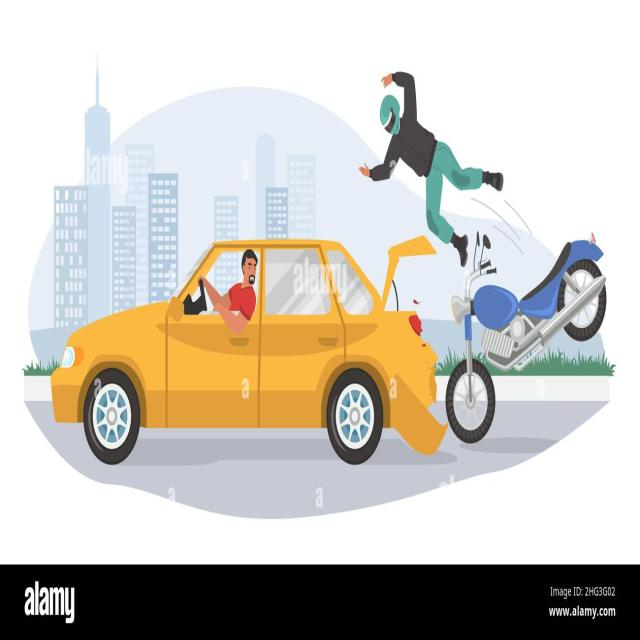Accident: (47, 180, 606, 466)
